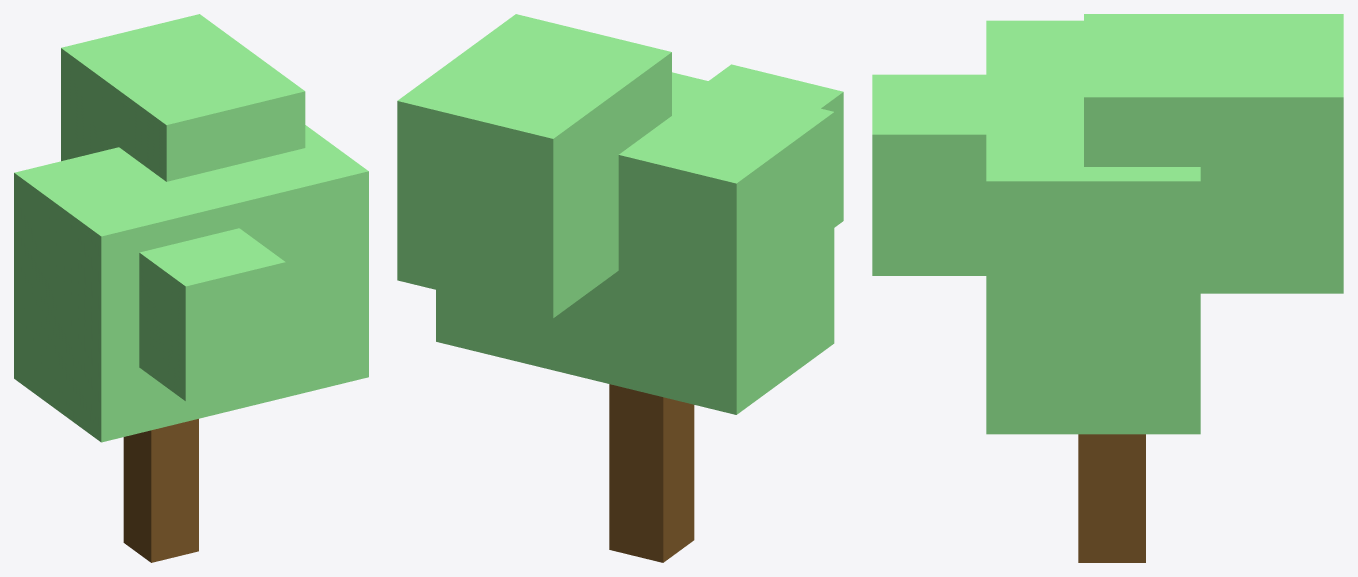
Rendered from tree_cube.fbx.
3 renders of one model, left to right at view 1: azimuth 30°, elevation 25°; view 2: azimuth 150°, elevation 25°; view 3: azimuth 270°, elevation 25°, orthographic. The views are drawn at different scales.
Visible parts, largest first — view 1: tree_cube; view 2: tree_cube; view 3: tree_cube.
Boxes of the visible parts, x1,y1,x2,y2 form: tree_cube: (14,14,368,562); tree_cube: (397,14,843,562); tree_cube: (872,14,1343,562).
Size of the model in its own units: 738 by 1138 by 916.
